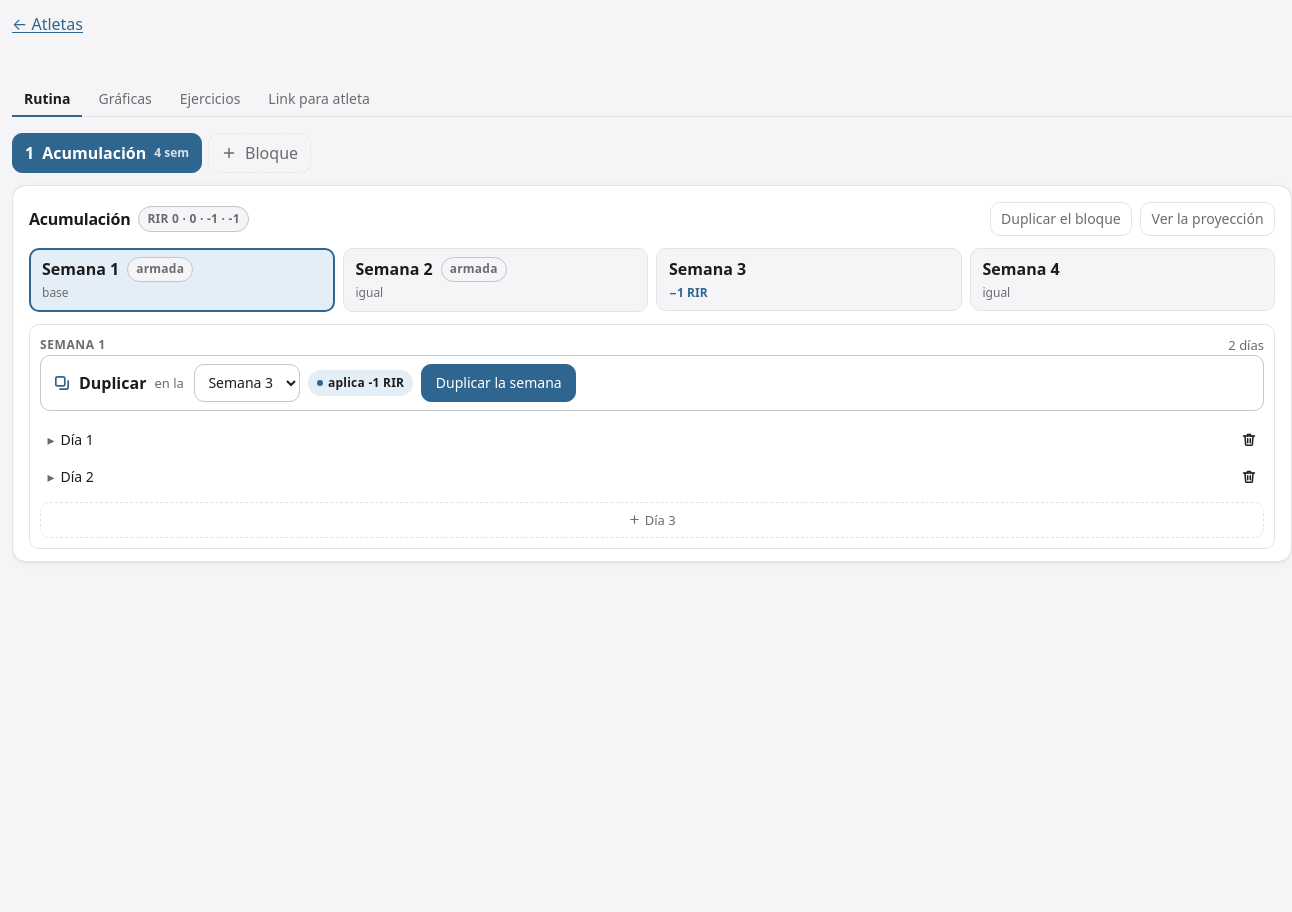
Test: el catálogo › una búsqueda sin resultados lo dice con lo que se buscó
Click the tab "Ejercicios".
click(210, 100)  # box [168,82,252,118]
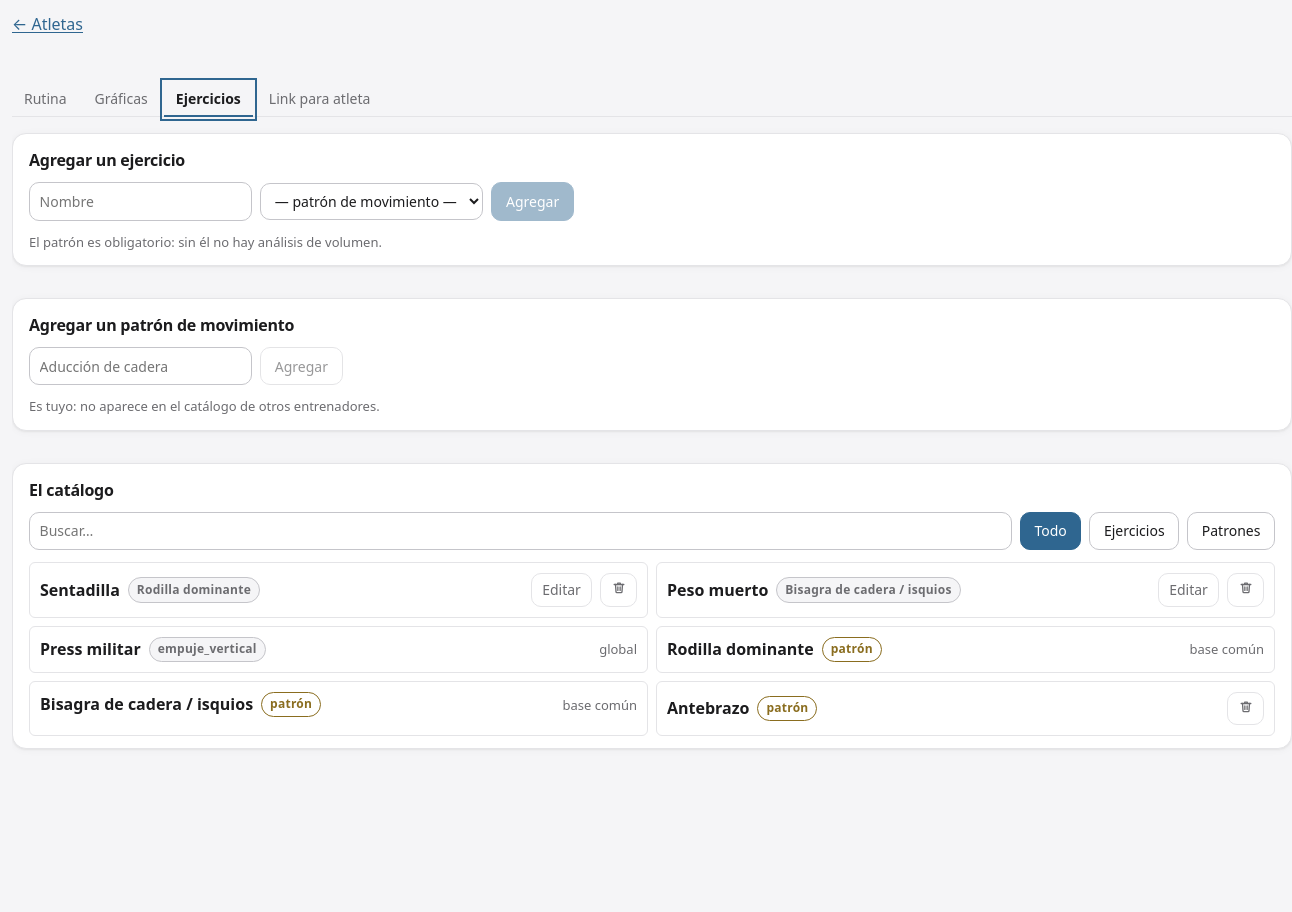
Now the text "Sentadilla" is shown, box [40,578,120,602]
Type "zancada" into the search field named "Buscar en el catálogo".
click(520, 531); type("zancada")  # box [29,512,1012,550]
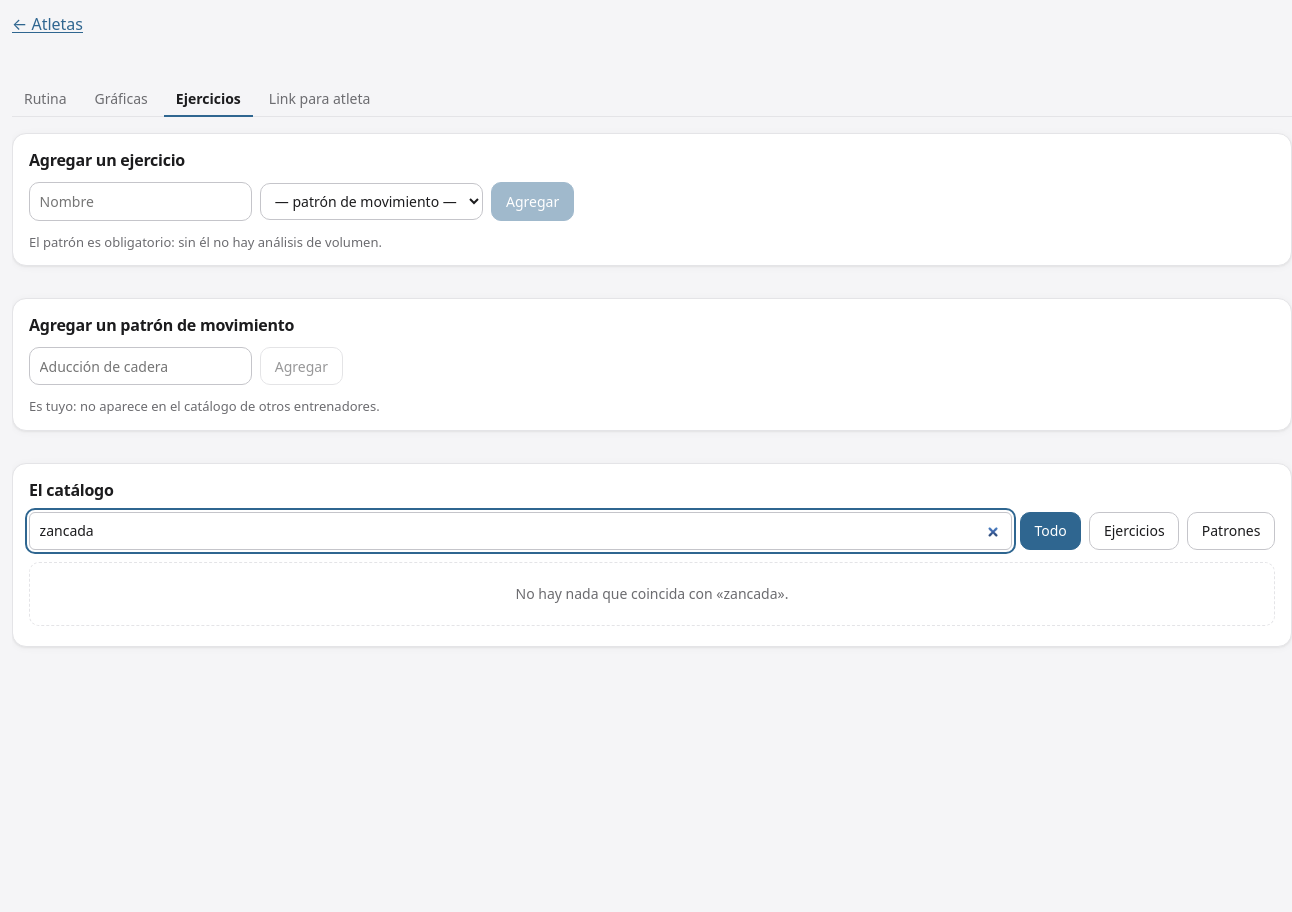
Now the text "No hay nada que coincida con «zancada»." is shown, box [29,562,1275,626]
